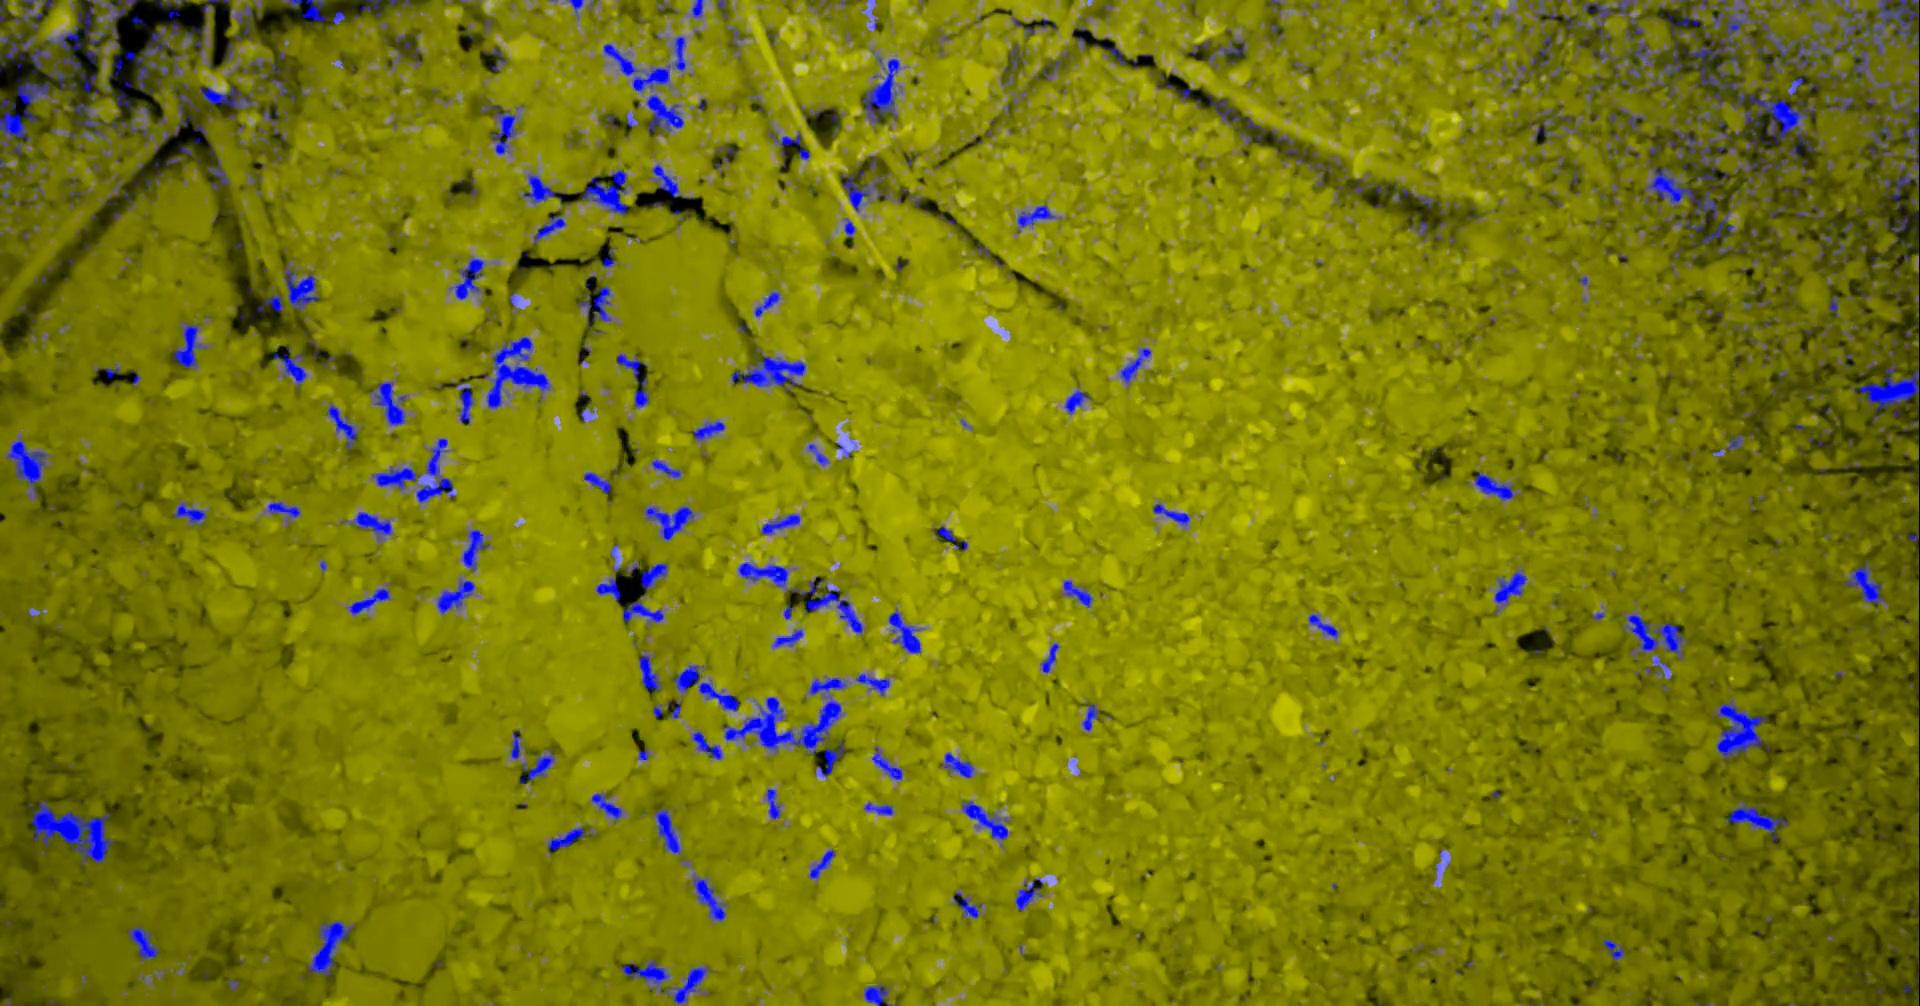ant: (0, 0, 52, 72), (71, 102, 151, 144), (1665, 128, 1717, 189), (672, 664, 738, 711), (1208, 95, 1265, 144), (415, 437, 455, 503), (1724, 800, 1788, 840), (5, 438, 47, 497), (582, 169, 629, 215), (1592, 44, 1636, 90), (841, 169, 888, 211), (480, 103, 517, 154), (961, 800, 1008, 840), (161, 93, 199, 141), (644, 506, 695, 540), (1843, 561, 1883, 603), (616, 353, 648, 406), (370, 381, 406, 426), (691, 874, 725, 921), (282, 265, 319, 309), (1493, 570, 1528, 615), (171, 321, 204, 367), (272, 345, 306, 389), (340, 511, 391, 539), (888, 608, 919, 653), (578, 285, 611, 326), (646, 94, 683, 131), (326, 404, 357, 448), (436, 578, 474, 614), (198, 85, 253, 109), (1658, 8, 1705, 36), (1868, 119, 1895, 166), (654, 807, 681, 854), (1016, 205, 1060, 232), (453, 257, 483, 298), (1473, 471, 1515, 500), (461, 528, 489, 572), (519, 748, 554, 782), (770, 130, 809, 159), (547, 826, 588, 854), (651, 164, 686, 197), (372, 466, 422, 489), (127, 925, 159, 960), (1534, 108, 1571, 138), (1120, 347, 1150, 384), (348, 587, 390, 614), (1700, 210, 1733, 243), (281, 0, 325, 24), (871, 746, 902, 780), (1690, 113, 1731, 138), (522, 174, 556, 203), (817, 741, 844, 776), (235, 3, 262, 39), (637, 654, 662, 694), (1530, 30, 1550, 76), (259, 64, 288, 95), (533, 215, 565, 244), (691, 730, 723, 760), (1203, 39, 1244, 61), (1275, 135, 1307, 163), (590, 793, 622, 821), (1015, 878, 1043, 909), (622, 601, 663, 622), (933, 525, 968, 550), (938, 752, 973, 777), (394, 33, 422, 64), (1002, 43, 1023, 83), (1152, 502, 1189, 525), (1063, 579, 1092, 607), (808, 848, 836, 878), (171, 502, 207, 525), (639, 561, 667, 589), (952, 892, 982, 918), (262, 103, 287, 133), (761, 513, 799, 533), (1307, 614, 1338, 638), (855, 673, 889, 695), (207, 158, 229, 191), (456, 382, 472, 426), (863, 984, 898, 1005), (596, 575, 620, 603), (265, 500, 300, 520), (184, 24, 204, 56), (1816, 67, 1848, 88), (753, 291, 778, 316), (1064, 389, 1090, 414), (1307, 160, 1331, 187), (692, 420, 724, 439), (201, 0, 229, 22), (1619, 108, 1646, 130), (1874, 215, 1909, 231), (651, 459, 681, 478), (1040, 643, 1059, 672), (484, 47, 505, 72), (164, 145, 190, 165), (583, 473, 610, 493), (772, 629, 803, 647), (1603, 937, 1625, 960), (1531, 0, 1557, 20), (1643, 655, 1669, 676), (1829, 238, 1846, 265), (1081, 702, 1098, 730), (764, 788, 780, 819), (1563, 14, 1585, 36), (806, 443, 828, 465), (1815, 232, 1831, 260), (1716, 241, 1749, 255), (1859, 84, 1877, 109), (1827, 95, 1857, 111), (69, 177, 86, 201), (1393, 183, 1415, 202), (263, 293, 284, 312), (863, 801, 893, 815), (1903, 189, 1919, 216), (1796, 205, 1823, 218), (1043, 58, 1062, 79), (1410, 215, 1429, 235), (359, 0, 382, 17), (1368, 180, 1392, 196), (1106, 46, 1125, 65), (509, 729, 521, 760), (110, 89, 130, 107), (145, 171, 163, 191), (1189, 39, 1209, 56), (729, 28, 744, 50), (243, 60, 268, 72), (1787, 76, 1803, 95), (714, 145, 733, 161), (1724, 434, 1743, 451), (1175, 86, 1194, 102), (1912, 281, 1919, 326), (602, 246, 616, 267), (0, 180, 11, 205), (566, 0, 583, 15), (221, 43, 234, 62), (1829, 295, 1839, 318), (104, 363, 119, 379), (1416, 196, 1432, 210), (1754, 46, 1771, 58), (843, 218, 855, 238), (669, 699, 681, 718), (1352, 178, 1366, 193), (691, 0, 703, 17), (331, 10, 345, 24), (651, 702, 662, 716), (0, 0, 6, 22)
